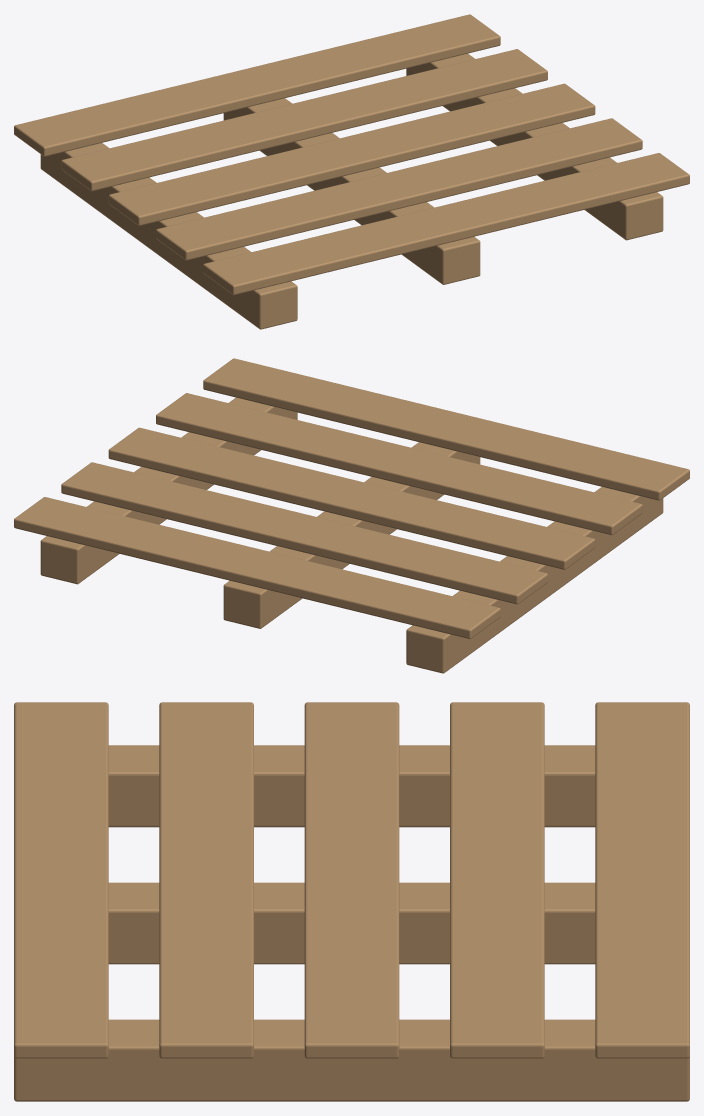
The model's file is industrial-pallet-01.glb.
The picture shows the model from 3 angles, top to bottom: view 1: azimuth 30°, elevation 25°; view 2: azimuth 150°, elevation 25°; view 3: azimuth 270°, elevation 25°; orthographic projection. The views are drawn at different scales.
Visible parts, largest first — view 1: industrial-pallet-01; view 2: industrial-pallet-01; view 3: industrial-pallet-01.
Boxes of the visible parts, box(x1,y1,x2,y2) form: industrial-pallet-01: box(14, 14, 689, 329); industrial-pallet-01: box(14, 358, 689, 673); industrial-pallet-01: box(14, 702, 689, 1101).
Bounding box in the file's own units: 1.2 × 0.1275 × 1.
